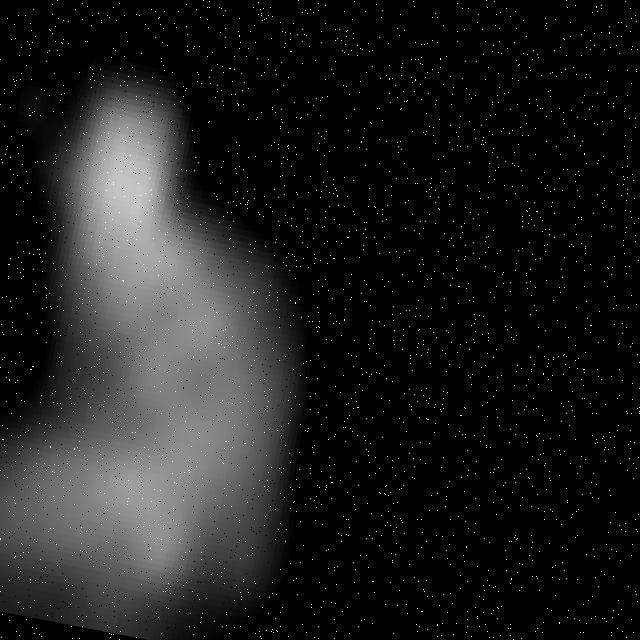person: (1, 5, 376, 640)
